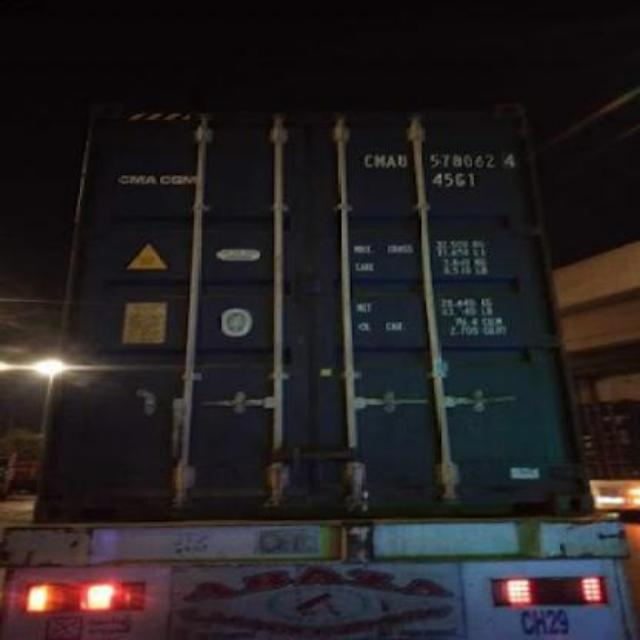0: (462, 154, 474, 168)
2: (486, 154, 496, 166)
4: (504, 152, 514, 168)
5: (430, 152, 440, 168)
6: (476, 152, 484, 168)
7: (440, 152, 452, 168)
8: (452, 152, 462, 168)
A: (386, 152, 396, 168)
C: (362, 154, 376, 168)
M: (374, 154, 386, 168)
U: (398, 156, 408, 168)
